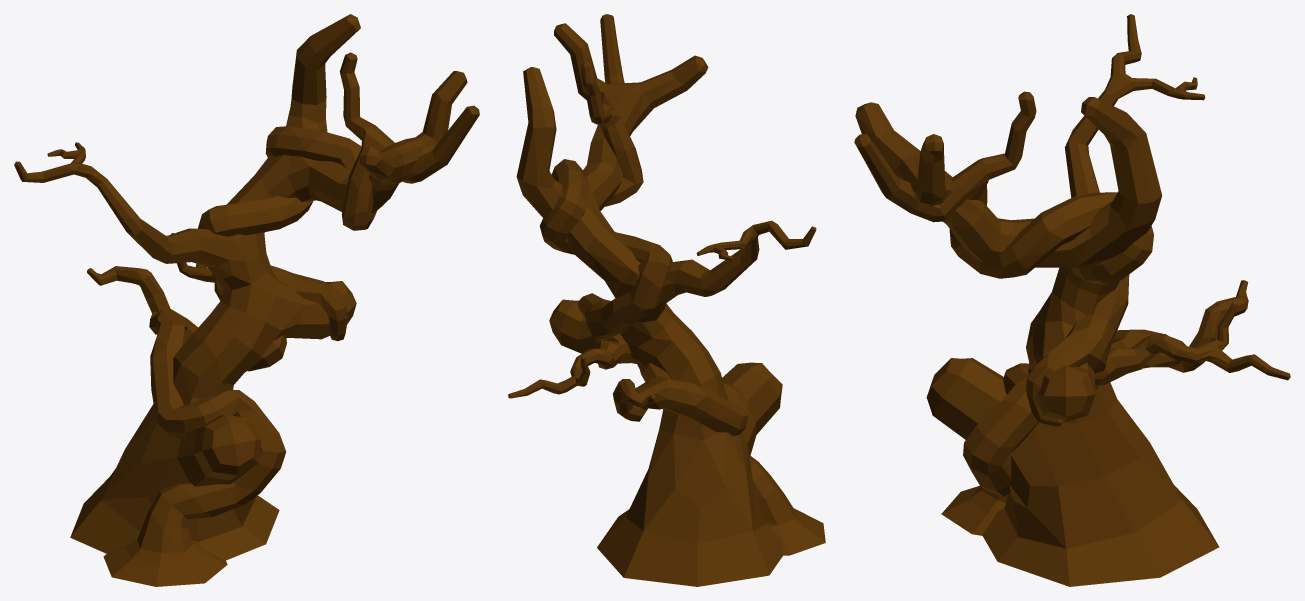
Rendered from Tree_Bare_1.glb.
The picture shows the model from 3 angles, left to right: view 1: azimuth 30°, elevation 25°; view 2: azimuth 150°, elevation 25°; view 3: azimuth 270°, elevation 25°; orthographic projection. The views are drawn at different scales.
Visible parts, largest first — view 1: Tree_Bare_1; view 2: Tree_Bare_1; view 3: Tree_Bare_1.
Boxes of the visible parts, x1,y1,x2,y2 form: Tree_Bare_1: [14, 14, 479, 586]; Tree_Bare_1: [508, 14, 825, 586]; Tree_Bare_1: [854, 14, 1290, 586].
Size of the model in its own units: 5.02 by 6.14 by 4.54.
1 material, 1 textured.
